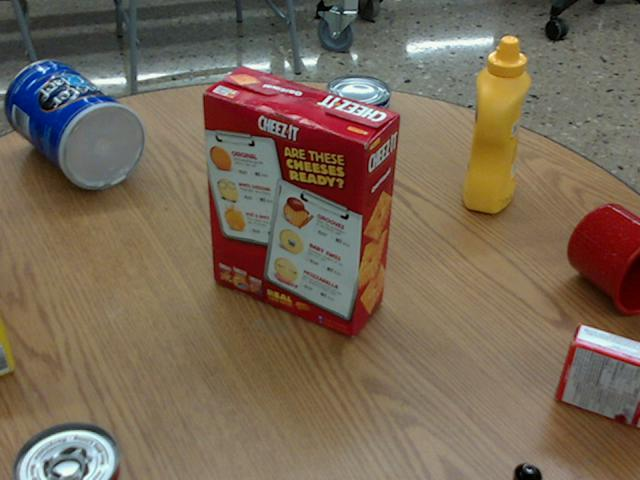cracker_box: (205, 67, 401, 334)
gelatin_box: (558, 325, 639, 428)
large_marker: (519, 466, 547, 479)
master_chef_can: (8, 60, 148, 189)
mug: (568, 203, 639, 314)
mustard_bottle: (463, 36, 531, 211)
potted_meat_can: (231, 87, 318, 195)
sugar_box: (0, 299, 18, 374)
tomato_soup_can: (18, 422, 127, 479)
tuna_fish_can: (327, 72, 392, 126)
